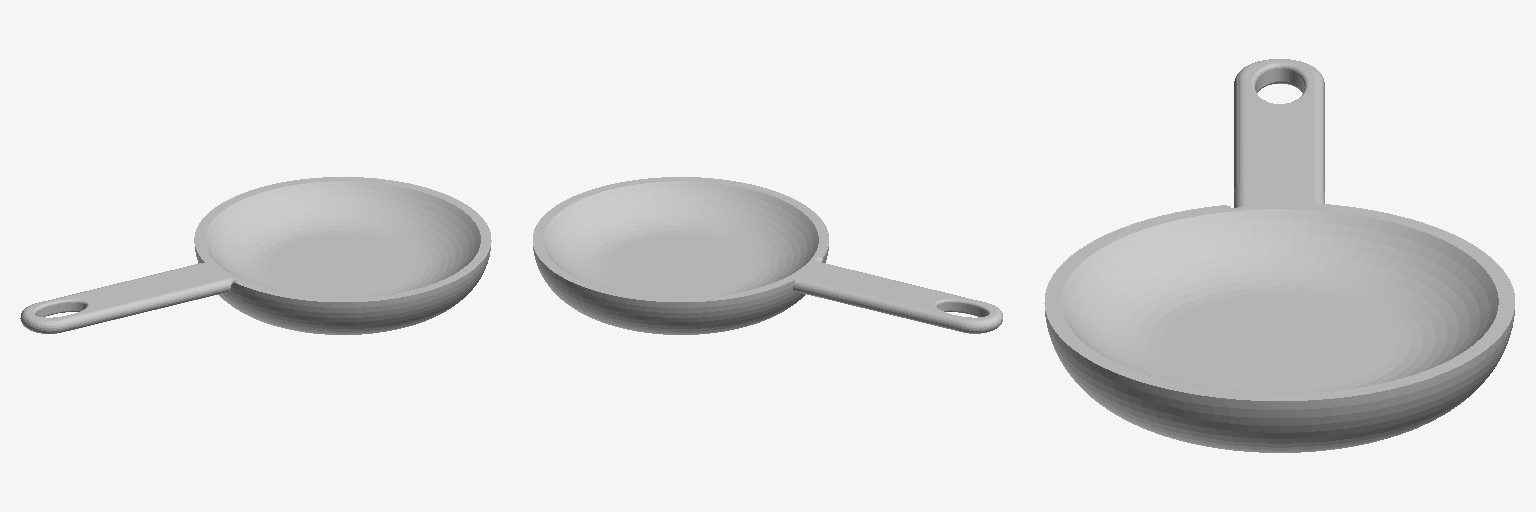
The robot description file, URDF, robot "table.urdf":
<?xml version="0.0" ?>
<robot name="table.urdf">
  <link name="baseLink">
    <contact>
      <lateral_friction value="1.0"/>
    </contact>
    <inertial>
      <origin rpy="0 0 0" xyz="0 0 0"/>
       <mass value=".0"/>
       <inertia ixx="1" ixy="0" ixz="0" iyy="1" iyz="0" izz="1"/>
    </inertial>
    <visual>
      <origin rpy="0 0 0" xyz="0 0 0.6"/>
      <geometry>
				<mesh filename="table.obj" scale="1.5 1 0.05"/>
      </geometry>
       <material name="white">
        <color rgba="1 1 1 1"/>
      </material>
    </visual>
    <collision>
      <origin rpy="0 0 0" xyz="0 0 0.6"/>
      <geometry>
	 	<box size="1.5 1 0.05"/>
      </geometry>
    </collision>
	<visual>
      <origin rpy="0 0 0" xyz="-0.65 -0.4 0.29"/>
      <geometry>
	    <mesh filename="table.obj" scale="0.1 0.1 0.58"/>
      </geometry>
	  <material name="framemat0"/>	 
    </visual>
    <visual>
      <origin rpy="0 0 0" xyz="-0.65 0.4 0.29"/>
      <geometry>
        <mesh filename="table.obj" scale="0.1 0.1 0.58"/>
      </geometry>
	  <material name="framemat0"/>
	  </visual>
    <visual>
      <origin rpy="0 0 0" xyz="0.65 -0.4 0.29"/>
      <geometry>
        <mesh filename="table.obj" scale="0.1 0.1 0.58"/>
      </geometry>
	  <material name="framemat0"/>
	  </visual>
    <visual>
      <origin rpy="0 0 0" xyz="0.65 0.4 0.29"/>
      <geometry>
        <mesh filename="table.obj" scale="0.1 0.1 0.58"/>
      </geometry>
    </visual>
  </link>
  
  <link name="cup">
    <contact>
      <lateral_friction value="1.0"/>
    </contact>
    <inertial>
      <origin rpy="0 0 0" xyz="0 0 0"/>
      <mass value="0.1"/>
      <inertia ixx="0.001" ixy="0" ixz="0" iyy="0.001" iyz="0" izz="0.001"/>
    </inertial>
    <visual>
      <origin rpy="0 0 0" xyz="0 0 0"/>
      <geometry>
        <mesh filename="cup.stl" scale="0.001 0.001 0.001"/>
      </geometry>
      <material name="cup_material">
        <color rgba="0.7 0.7 0.7 1"/>
      </material>
    </visual>
    <collision>
      <origin rpy="0 0 0" xyz="0 0 0"/>
      <geometry>
        <cylinder radius="0.04" length="0.08"/>
      </geometry>
    </collision>
  </link>
  
  <joint name="cup_to_table" type="fixed">
    <parent link="baseLink"/>
    <child link="cup"/>
    <origin rpy="0 0 0" xyz="0 0 0.65"/>
  </joint>
  
  <link name="pan">
    <contact>
      <lateral_friction value="1.0"/>
    </contact>
    <inertial>
      <origin rpy="0 0 0" xyz="0 0 0"/>
      <mass value="0.3"/>
      <inertia ixx="0.002" ixy="0" ixz="0" iyy="0.002" iyz="0" izz="0.002"/>
    </inertial>
    <visual>
      <origin rpy="0 0 0" xyz="0 0 0"/>
      <geometry>
        <mesh filename="pan.stl" scale="0.001 0.001 0.001"/>
      </geometry>
      <material name="pan_material">
        <color rgba="0.8 0.8 0.8 1"/>
      </material>
    </visual>
    <collision>
      <origin rpy="0 0 0" xyz="0 0 0"/>
      <geometry>
        <cylinder radius="0.1" length="0.02"/>
      </geometry>
    </collision>
  </link>
  
  <joint name="pan_to_table" type="fixed">
    <parent link="baseLink"/>
    <child link="pan"/>
    <origin rpy="0 0 0" xyz="0.2 0 0.63"/>
  </joint>
</robot>

--- Render facts (derived) ---
3 views of the same robot in one strip: view 1: azimuth 30°, elevation 25°; view 2: azimuth 150°, elevation 25°; view 3: azimuth 270°, elevation 25° (orthographic).
Model table.urdf with 3 links and 2 joints (2 fixed), rooted at baseLink, posed every joint at zero.
Visible links, largest first — view 1: pan; view 2: pan; view 3: pan.
Link boxes in pixels (<box>): pan: <box>20,177,491,334</box>; pan: <box>533,177,1002,334</box>; pan: <box>1044,59,1514,452</box>.
Bounding box of the posed robot: 0.1825 × 0.105 × 0.02 m (x, y, z).
1 mesh visuals loaded from 3 distinct referenced files (1 binary STL); not drawn: 6 (reference not matched to a file when rendering).